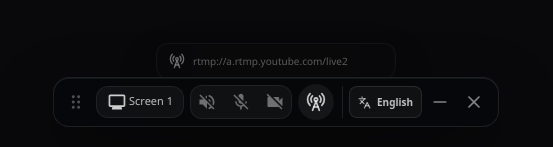
Scenario: LaunchWindow screen selection › opens destination controls when starting with missing destination information
Expected: the text "Screen 1" is shown, [129,94,173,110]
Click the button with test id "launch-live-stream-button": (316, 102) [298,84,334,120]
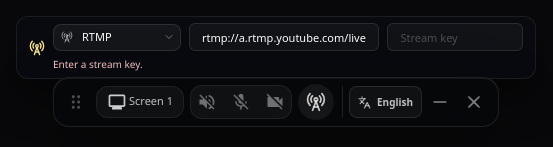
Now the password field labelled "Stream key" is shown, box [387,23,523,51]
Now the text "Enter a stream key." is shown, box [53,57,143,71]
